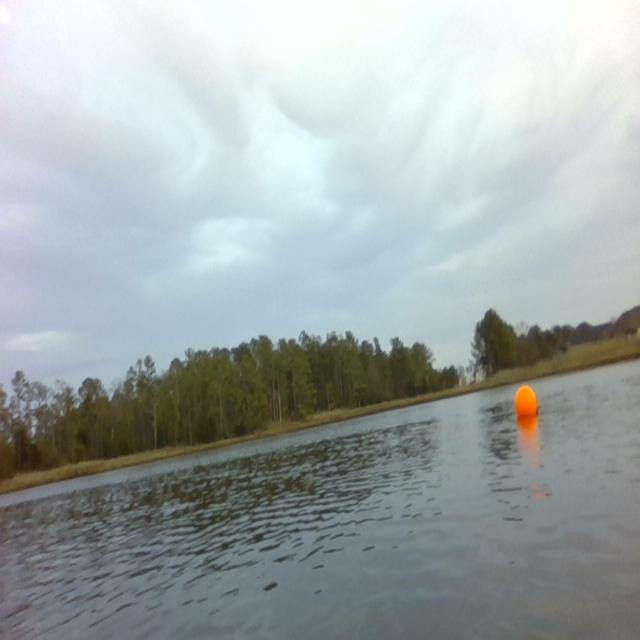Buoy: (512, 382, 540, 424)
